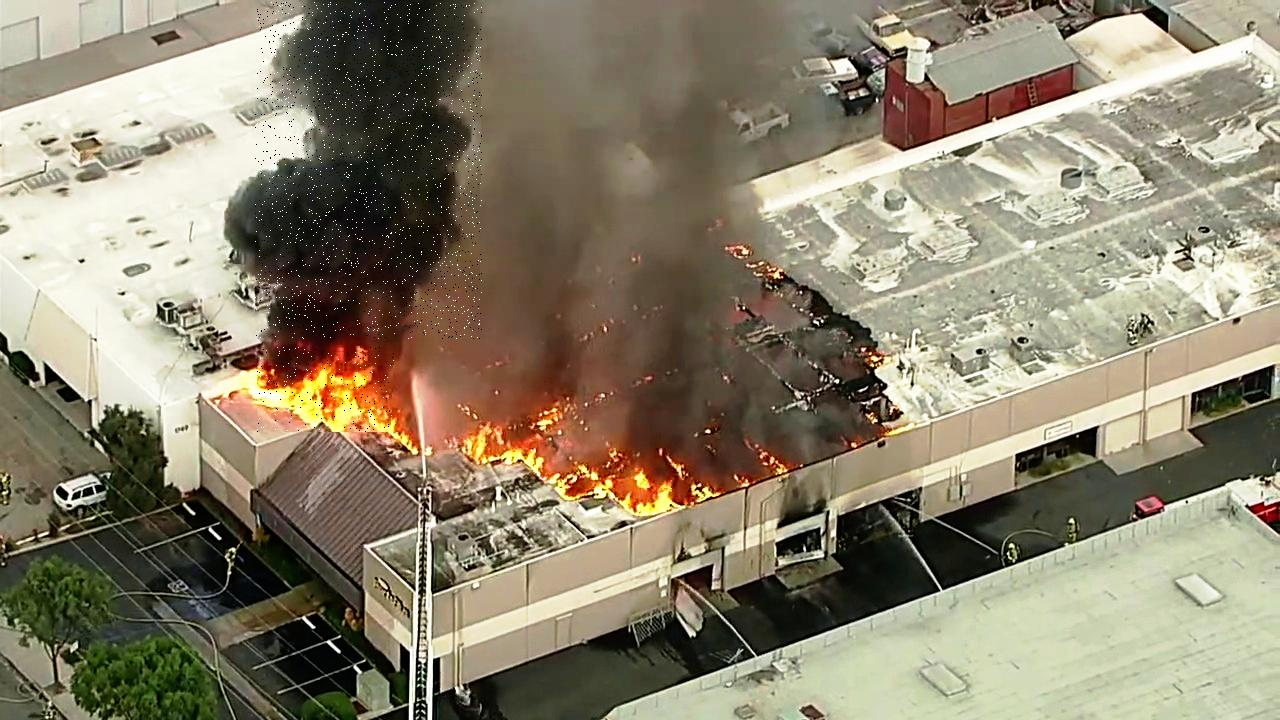fire: (257, 347, 394, 432)
smoke: (255, 2, 482, 339)
